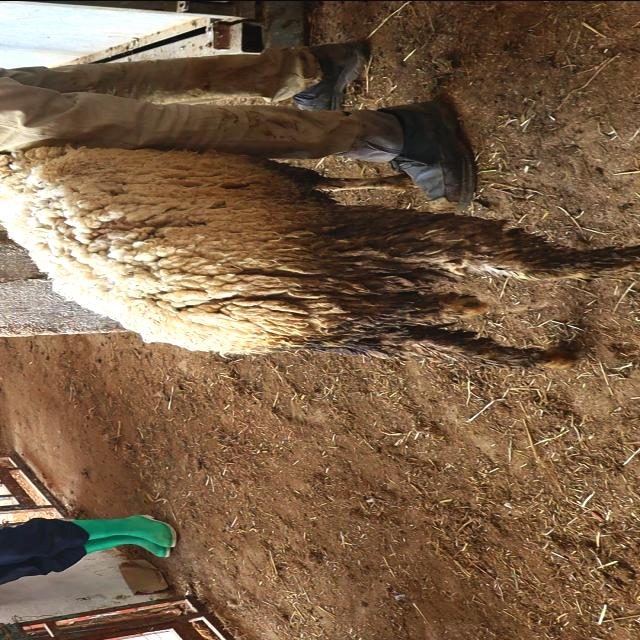Score_3: (0, 144, 639, 368)
